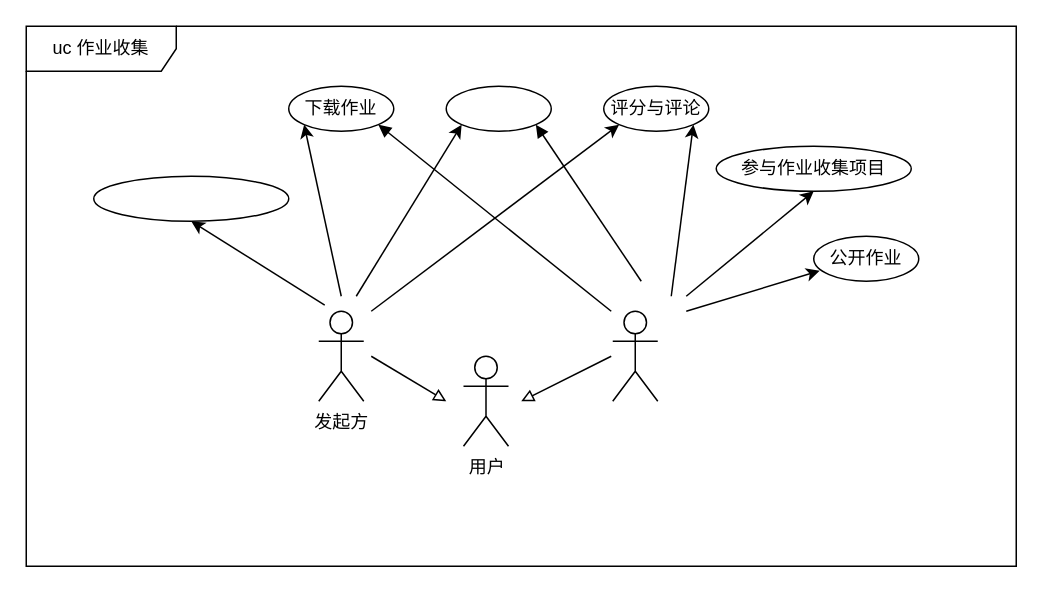
Some shapes in this 1043 by 593 pixel diagram are drawn without their labels. The shapes that lost their labels are listed below. From the top down, each one's centre as x and y in pixels, then its label:
At [498,108]: "预览作业".
At [190,198]: "创建作业收集项目".
At [634,355]: "参与方".
